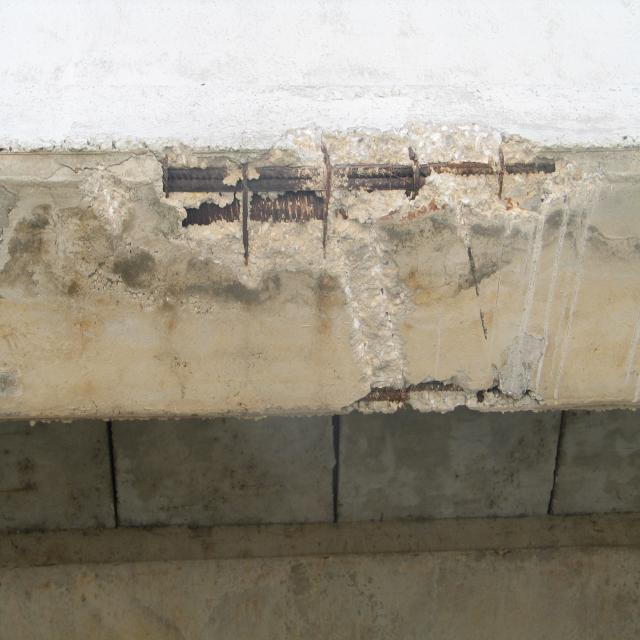corrosion: (146, 147, 562, 280), (350, 369, 497, 413)
